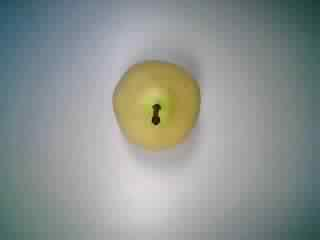pear: (98, 52, 207, 154)
